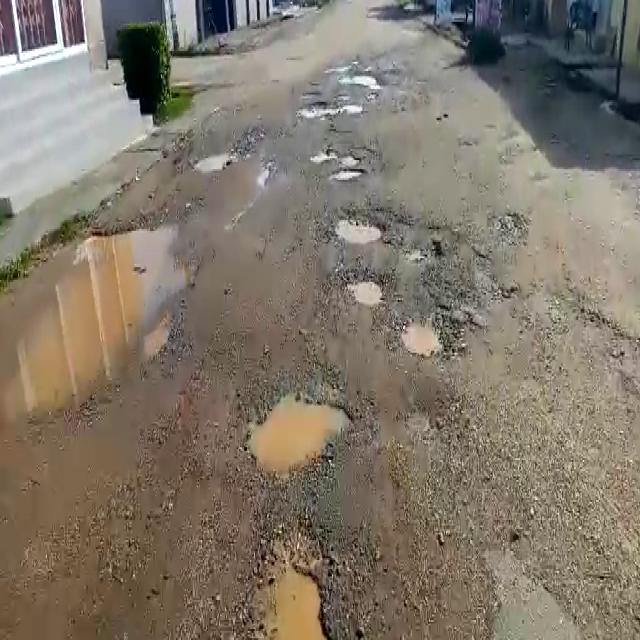Pothole: (0, 228, 190, 425), (240, 384, 360, 480), (245, 536, 338, 637), (332, 210, 383, 247), (338, 267, 388, 304), (401, 322, 443, 354), (301, 101, 358, 119), (195, 148, 234, 170), (332, 168, 367, 183)
